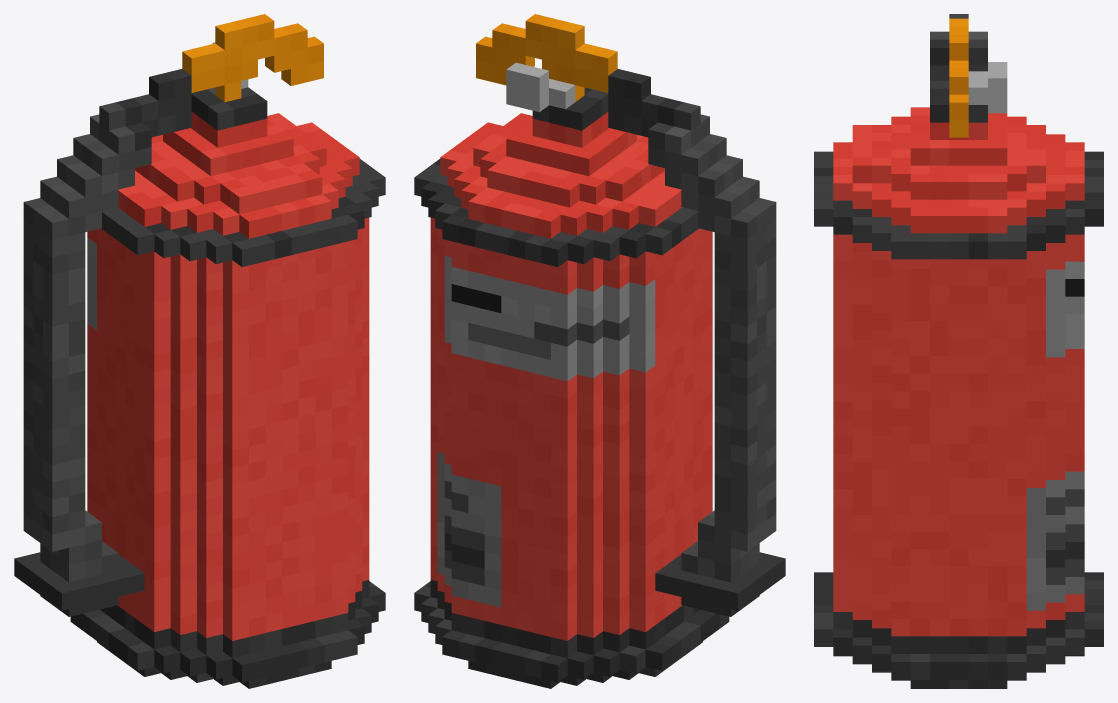
File: Extintor.obj
3 renders of one model, left to right at view 1: azimuth 30°, elevation 25°; view 2: azimuth 150°, elevation 25°; view 3: azimuth 270°, elevation 25°, orthographic.
Bounding box in the file's own units: 1.9 × 3.5 × 1.5.
1 material, 1 textured.
